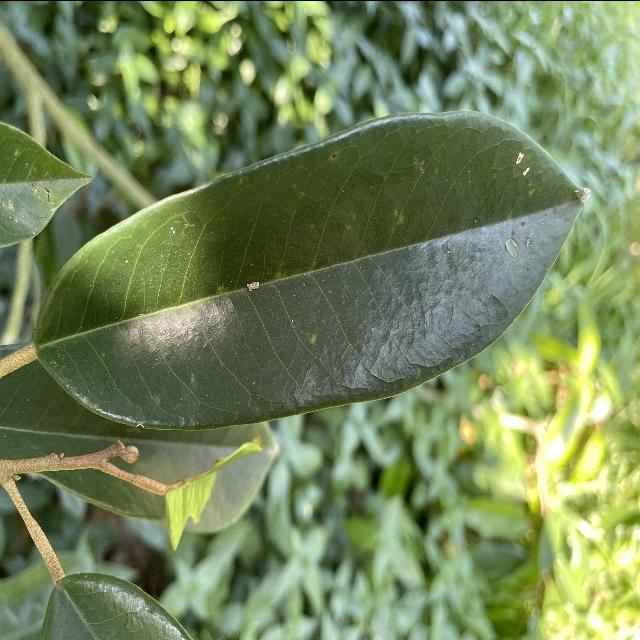No Disease: (21, 97, 596, 443)
